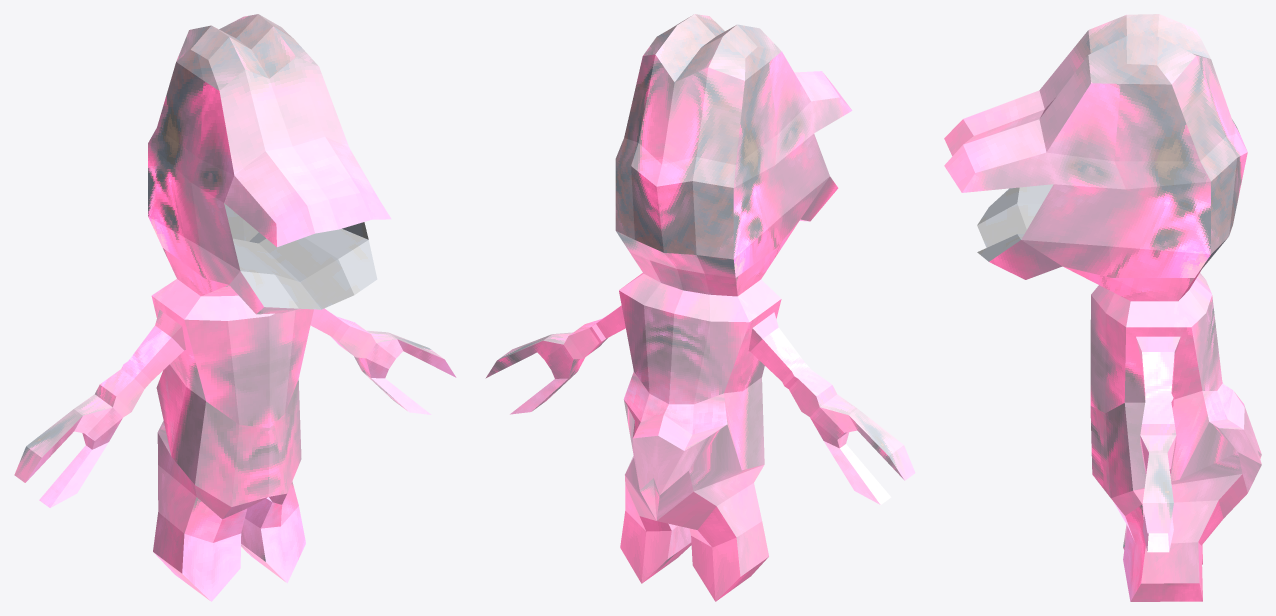
Rendered from Creature.glb.
The picture shows the model from 3 angles, left to right: view 1: azimuth 30°, elevation 25°; view 2: azimuth 150°, elevation 25°; view 3: azimuth 270°, elevation 25°; orthographic projection. The views are drawn at different scales.
Parts seen in each view (by area): view 1: Creature; view 2: Creature; view 3: Creature.
Boxes of the visible parts, bbox=[...] form: Creature: bbox=[14, 14, 456, 601]; Creature: bbox=[485, 14, 915, 601]; Creature: bbox=[944, 14, 1261, 601].
Size of the model in its own units: 60.6 by 75.49 by 38.95.
